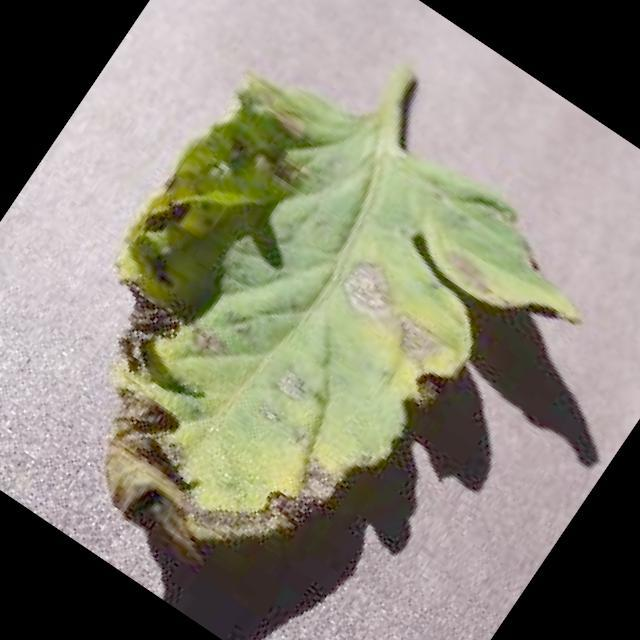Tomato Early blight leaf: (0, 42, 615, 640)
